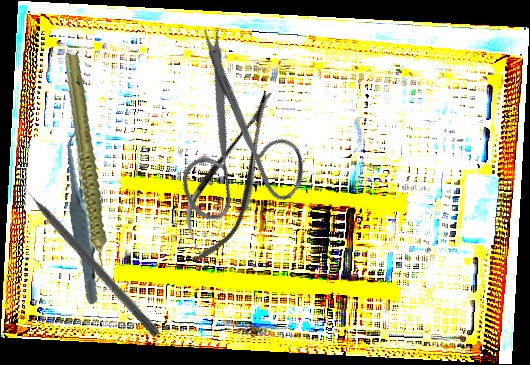Handpiece: (40, 53, 128, 284)
Iris Scissors: (110, 19, 346, 254)
Micro Scissor: (166, 80, 298, 273)
Pusher: (10, 171, 163, 339)
Tissue Forceps: (47, 125, 120, 306)
